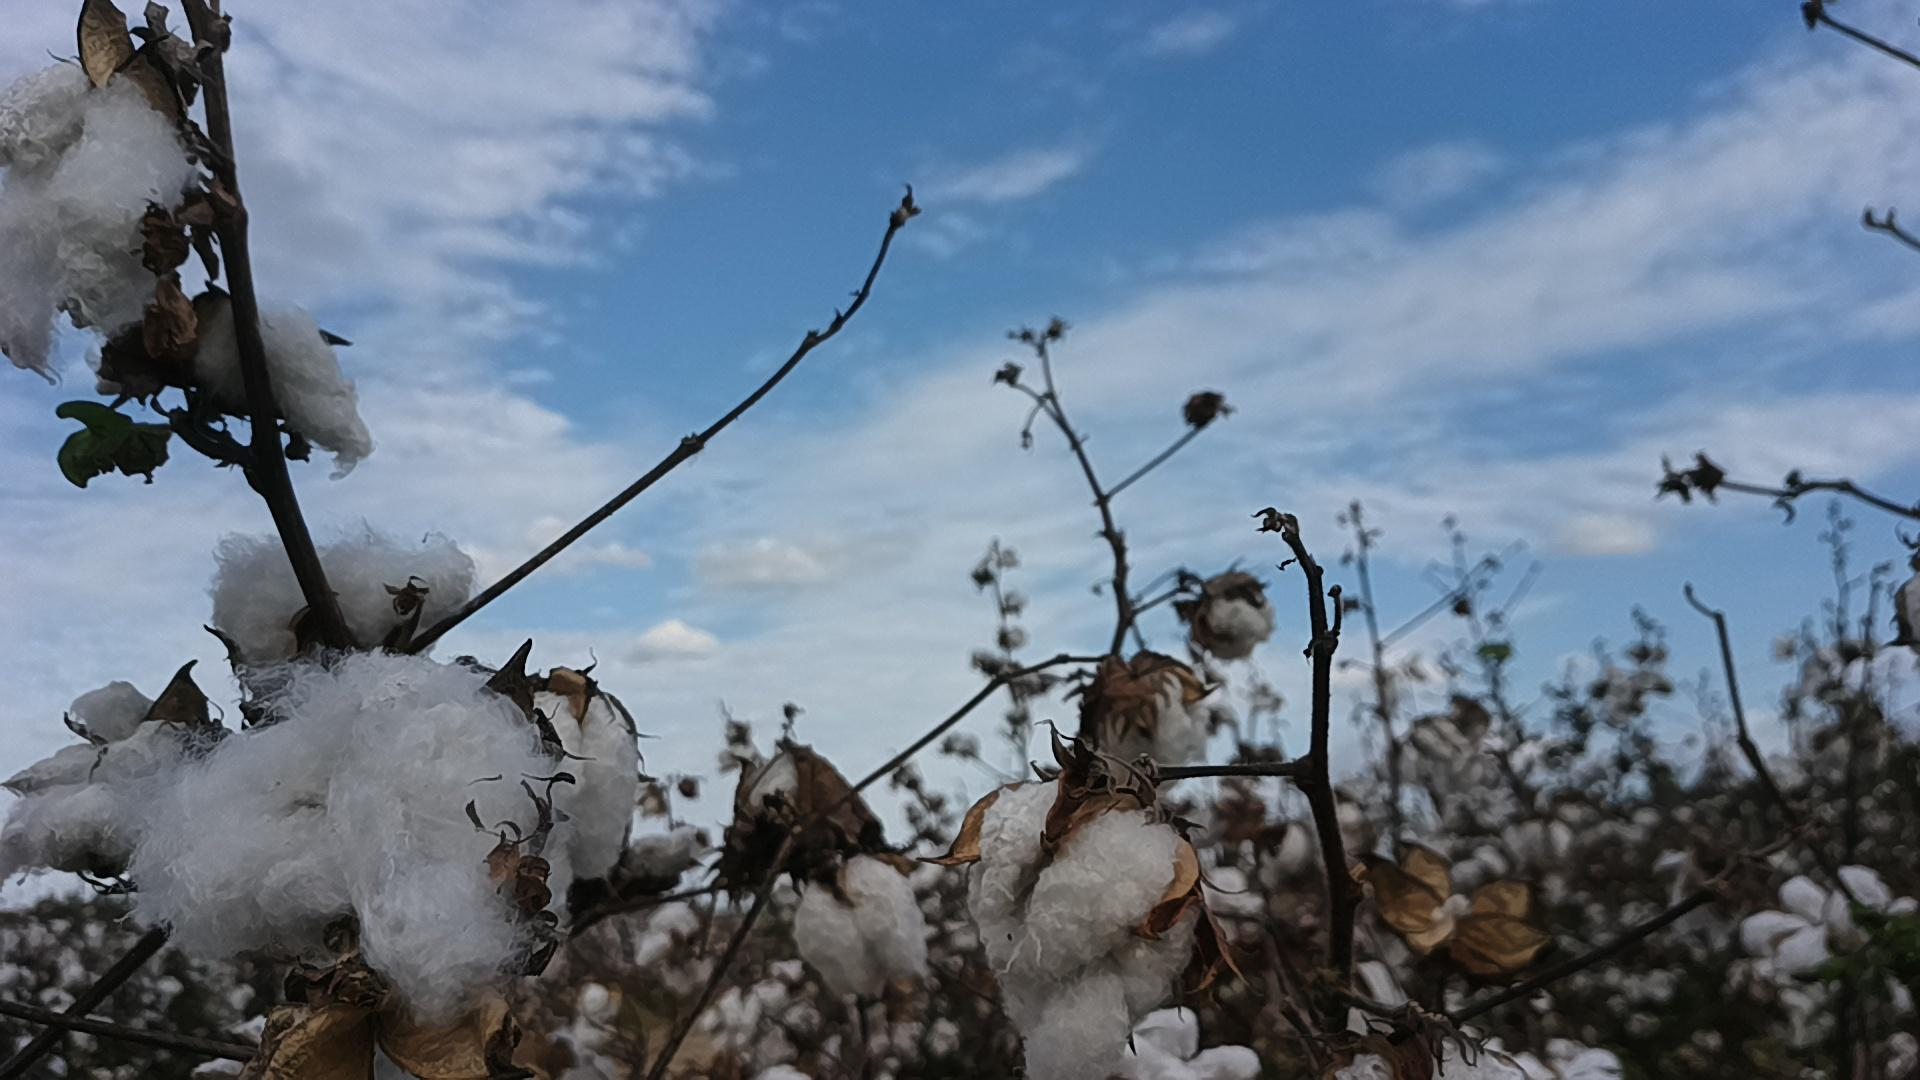cotton_ready: (125, 642, 560, 1027), (969, 779, 1200, 1079), (0, 54, 194, 368), (0, 676, 239, 881), (210, 526, 476, 686), (195, 294, 378, 479), (516, 680, 642, 907), (794, 858, 931, 1001), (1742, 862, 1887, 984), (1096, 661, 1208, 790), (1316, 1025, 1528, 1080), (1120, 1006, 1261, 1080), (1199, 575, 1278, 661), (745, 749, 835, 818)
